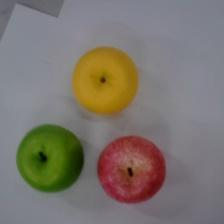green: (16, 124, 84, 192)
red: (97, 136, 166, 204)
yellow: (72, 47, 139, 115)
